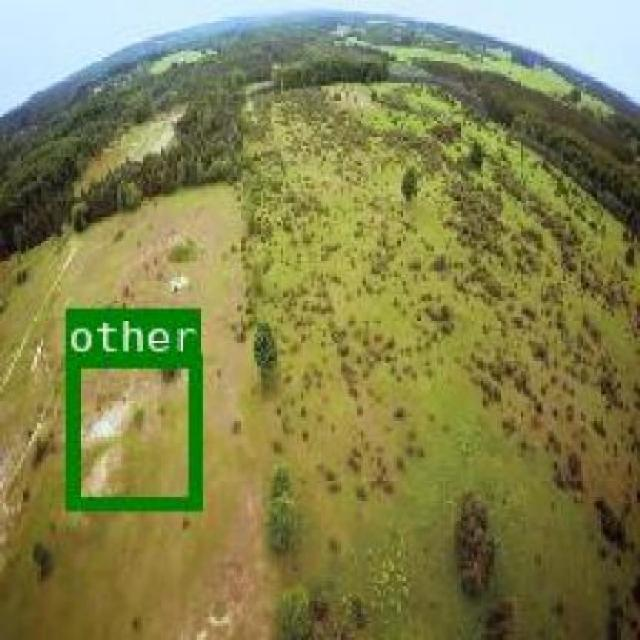other: (66, 351, 200, 506)
